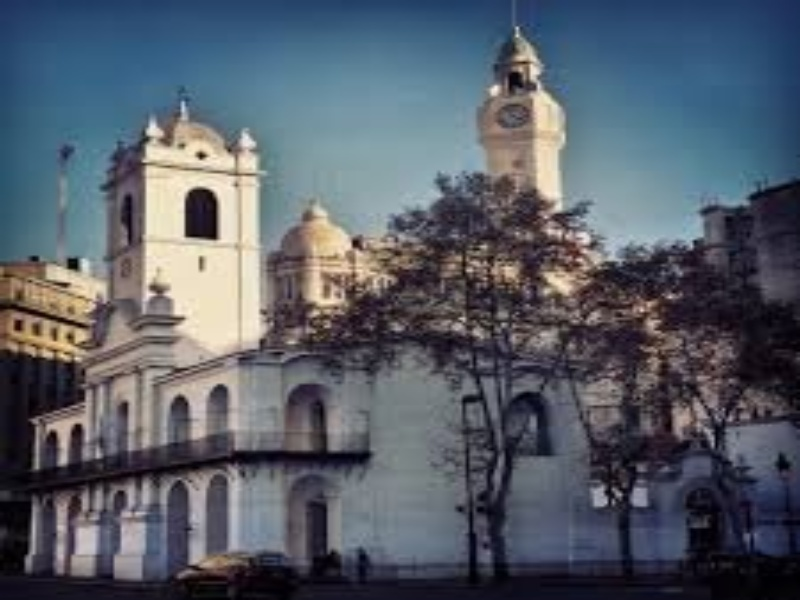cabildo: (11, 84, 375, 579)
